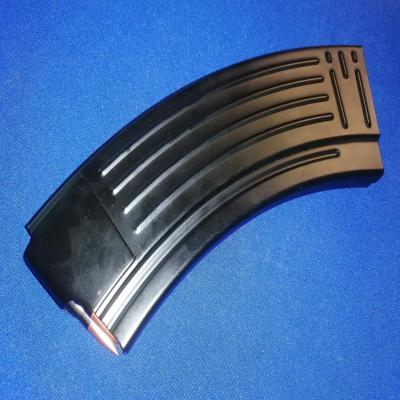other: (23, 45, 385, 357)
